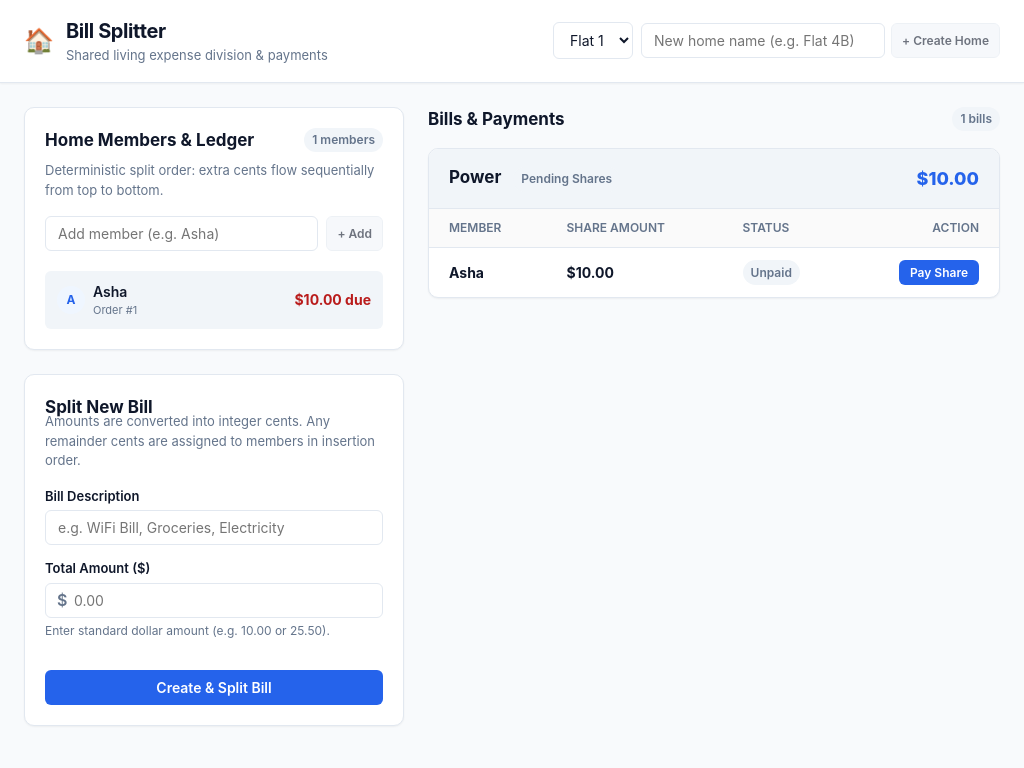
Test case: Dashboard Component - Genuine React DOM Interactions › 9. Immediately transitions to Paid and locks button on HTTP 409 Conflict
Expected: the heading "Power" is shown, [449, 165, 501, 191]
Click the button "Pay Share" at (939, 272), box [899, 260, 979, 285]
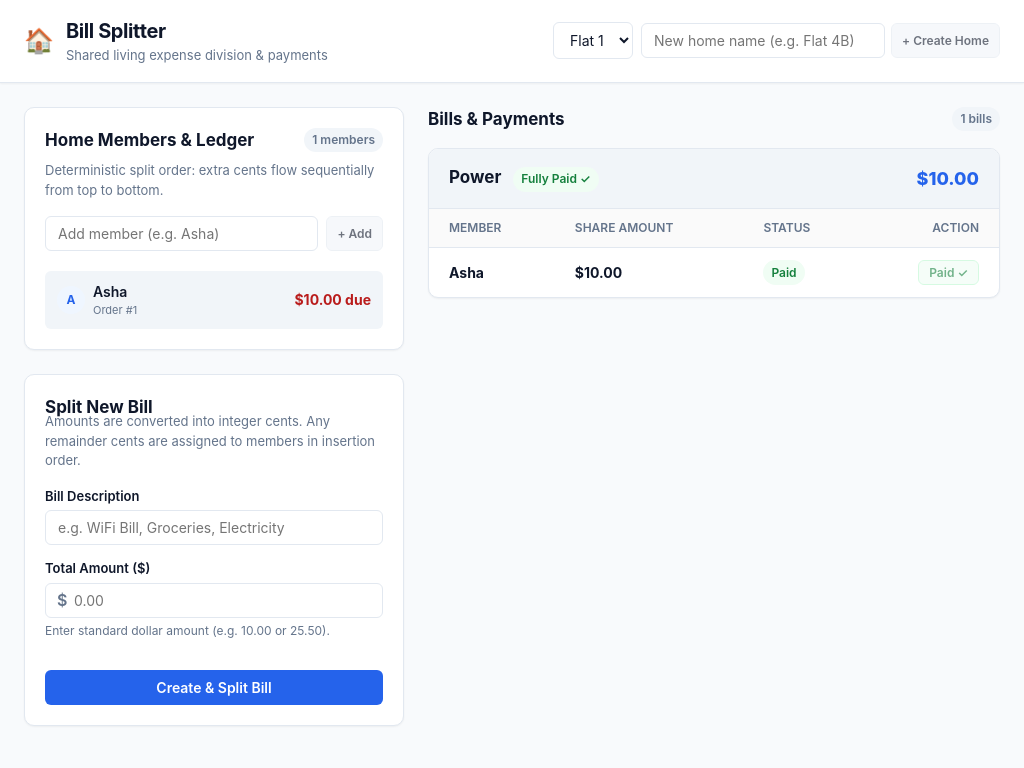
Result: the button "Paid ✓" is disabled at [918, 260, 979, 285]
